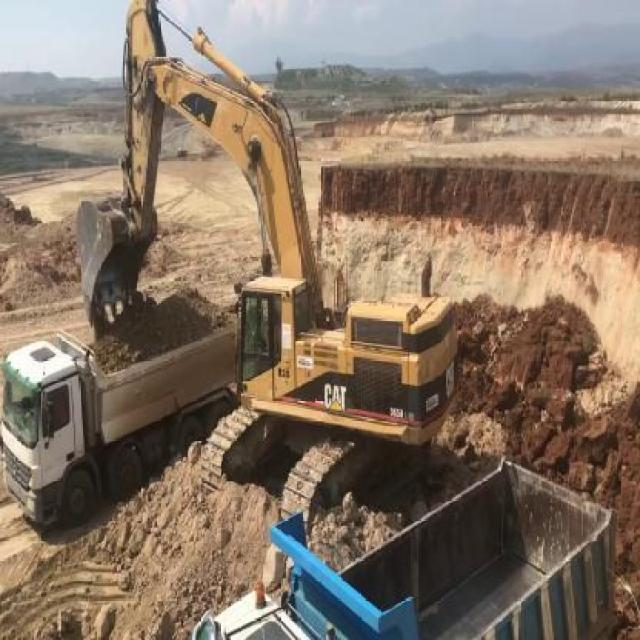dump_truck: (188, 448, 620, 640), (0, 313, 258, 529)
excavator: (71, 0, 458, 525)
